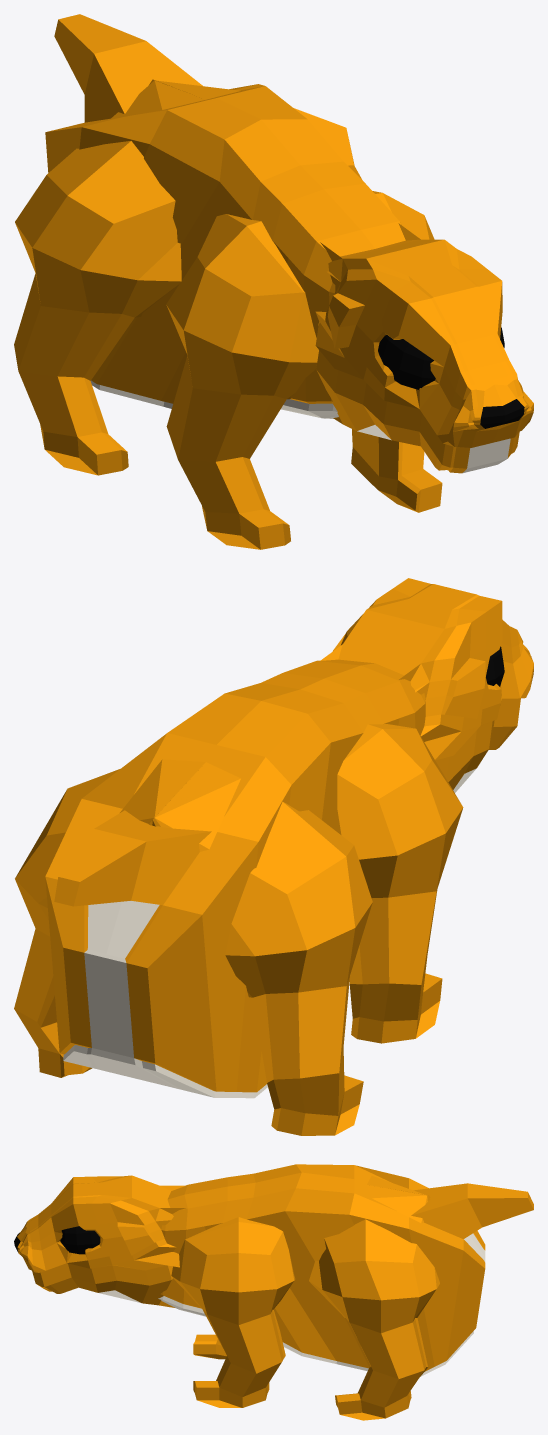
The model's file is prarrie dog v.2.5.fbx.
The picture shows the model from 3 angles, top to bottom: view 1: azimuth 30°, elevation 25°; view 2: azimuth 150°, elevation 25°; view 3: azimuth 270°, elevation 25°; orthographic projection. The views are drawn at different scales.
Parts seen in each view (by area): view 1: Cube.017; view 2: Cube.017; view 3: Cube.017.
Part boxes in pixels (bbox=[...]): Cube.017: bbox=[14, 14, 533, 549]; Cube.017: bbox=[14, 578, 533, 1135]; Cube.017: bbox=[14, 1164, 533, 1420].
Size of the model in its own units: 165 by 172 by 390.
